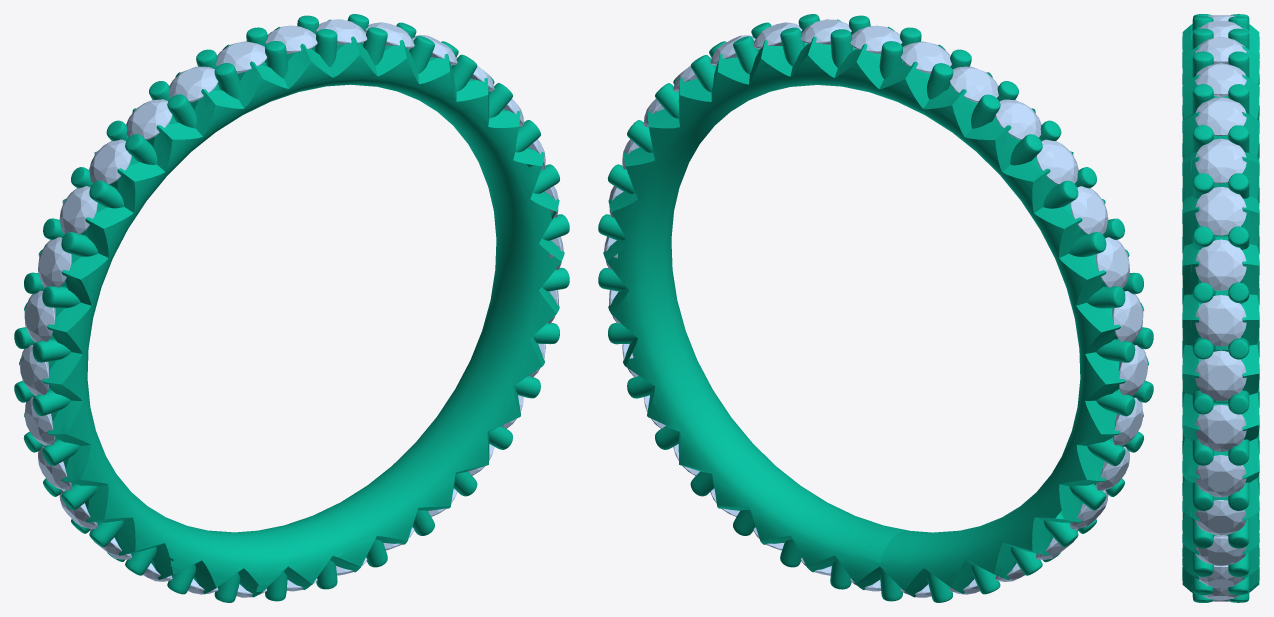
3 views of the same model, side by side, from view 1: azimuth 30°, elevation 25°; view 2: azimuth 150°, elevation 25°; view 3: azimuth 270°, elevation 25° (orthographic). The views are drawn at different scales.
Parts seen in each view (by area): view 1: PART0001, Diamond_Round (×11); view 2: PART0001, Diamond_Round (×11); view 3: PART0001 (×33), Diamond_Round (×15).
Part boxes in pixels (box(x1,y1,x2,y2)): PART0001: box(19, 19, 564, 597); Diamond_Round (×11): box(19, 19, 367, 445); PART0001: box(603, 19, 1148, 597); Diamond_Round (×11): box(800, 19, 1148, 446); PART0001 (×33): box(1182, 16, 1259, 602); Diamond_Round (×15): box(1195, 21, 1246, 599).
Bounding box in the file's own units: 2.82 × 2.82 × 0.3699.
